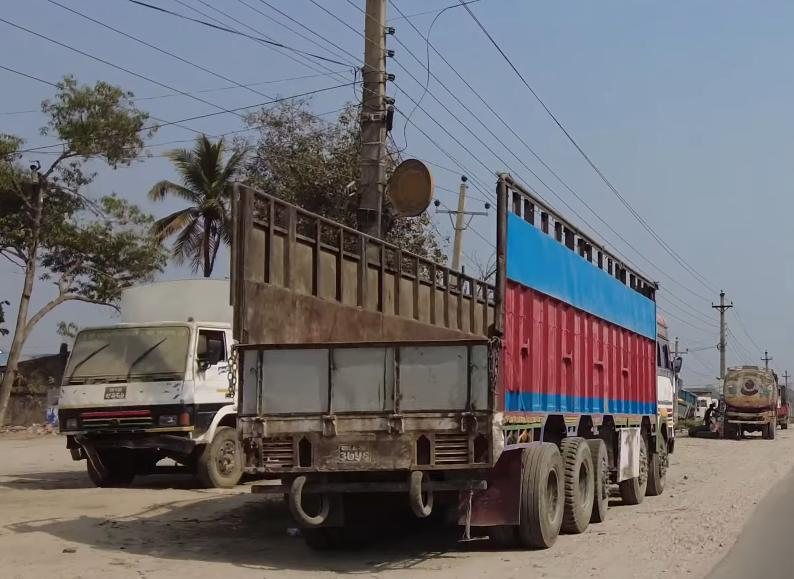truck: (226, 167, 675, 550), (43, 272, 252, 490)
